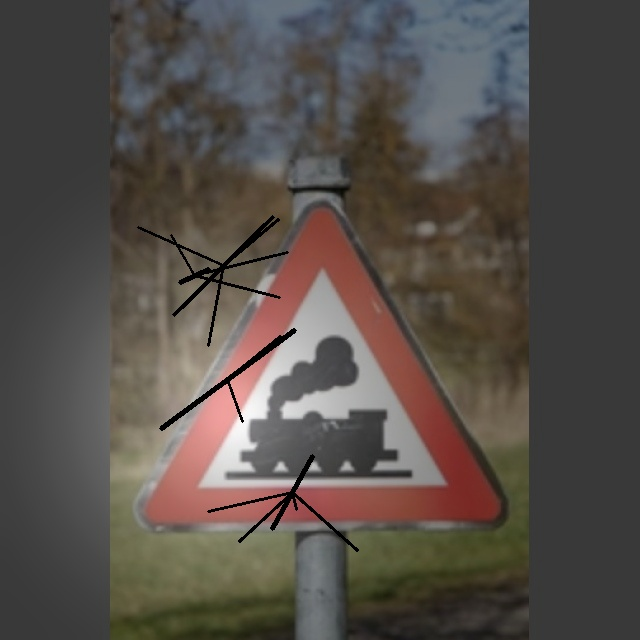Unguarded_Level_Crossing: (132, 201, 507, 531)
